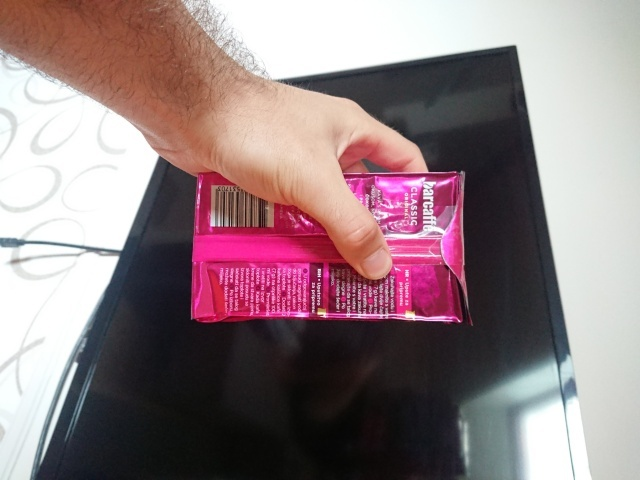Barcaffe Classic Original 225g: (189, 168, 477, 329)
